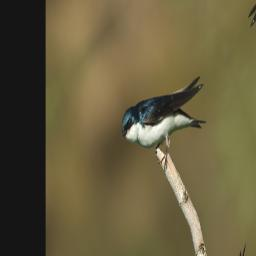Swallow: (116, 31, 216, 206)
